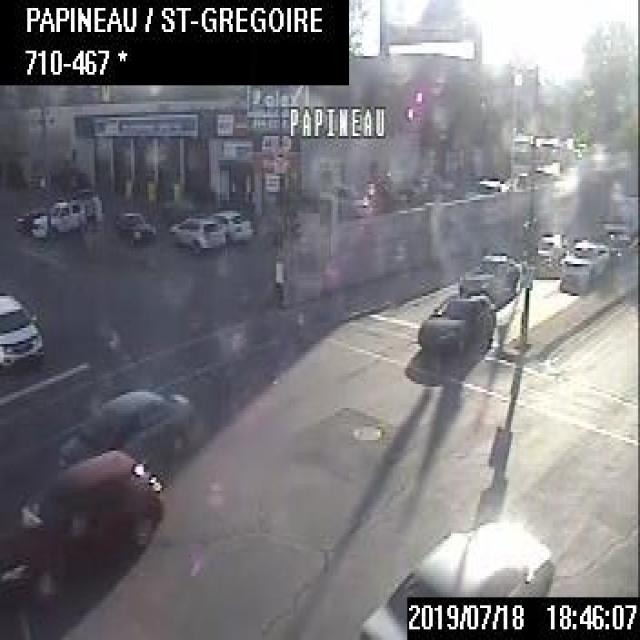vehicle: (0, 445, 164, 603), (356, 510, 554, 638), (53, 382, 197, 464), (418, 289, 491, 352), (457, 247, 523, 310), (29, 190, 100, 239), (0, 288, 42, 365), (558, 232, 612, 290), (170, 209, 226, 252), (204, 208, 252, 245), (532, 232, 567, 280), (112, 210, 155, 248)
